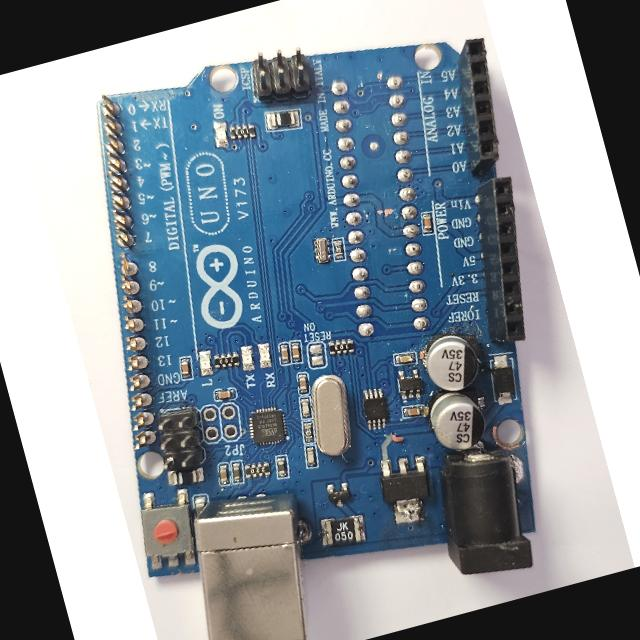missing_atmega: (323, 69, 436, 341)
missing_digital_pins: (95, 84, 156, 461)
